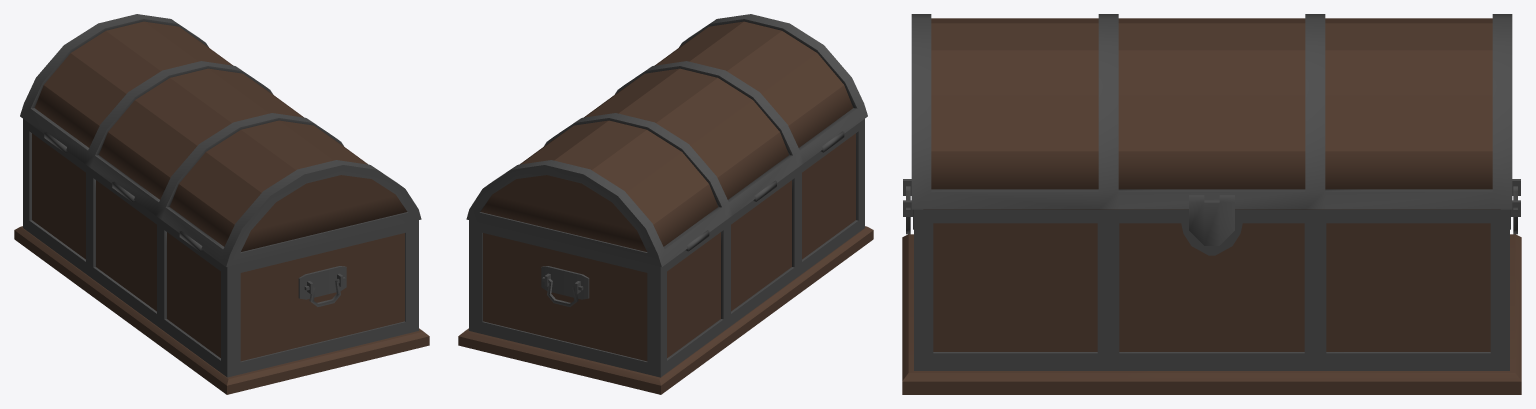
The model's file is S_Coffer.fbx.
3 views of the same model, side by side, from view 1: azimuth 30°, elevation 25°; view 2: azimuth 150°, elevation 25°; view 3: azimuth 270°, elevation 25° (orthographic). The views are drawn at different scales.
Visible parts, largest first — view 1: S_Coffer; view 2: S_Coffer; view 3: S_Coffer.
Boxes of the visible parts, bbox=[...] form: S_Coffer: bbox=[14, 14, 429, 394]; S_Coffer: bbox=[458, 14, 873, 394]; S_Coffer: bbox=[902, 14, 1521, 394].
Size of the model in its own units: 83.16 by 77.81 by 151.
